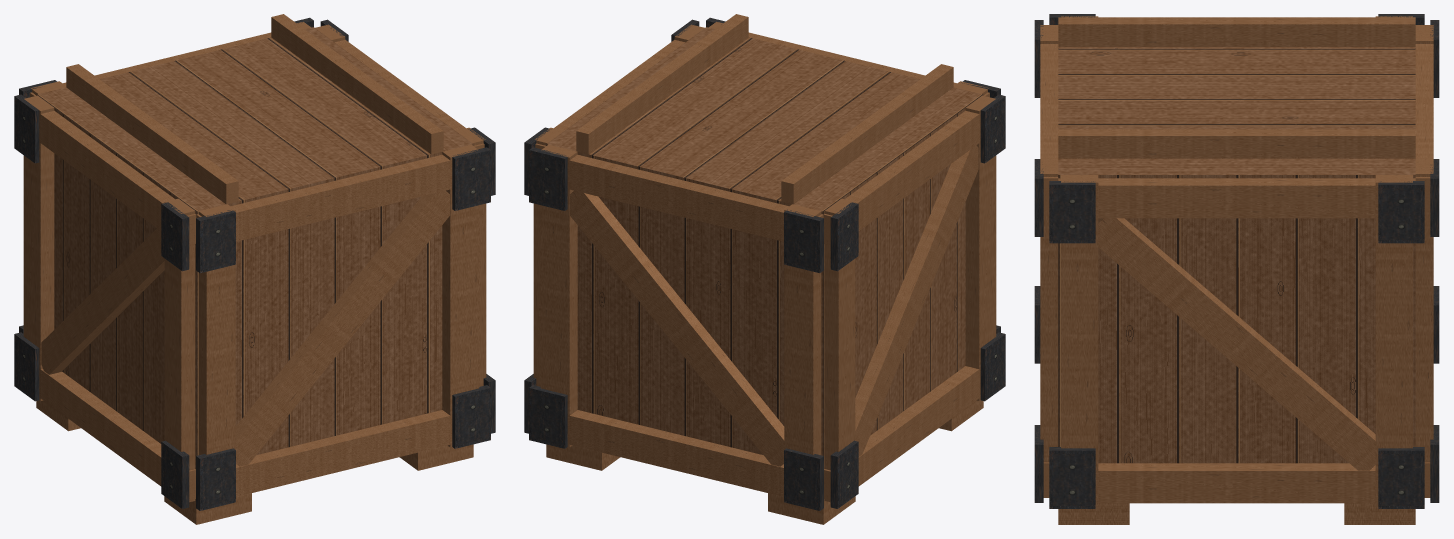
File: wooden_crate.glb
3 renders of one model, left to right at view 1: azimuth 30°, elevation 25°; view 2: azimuth 150°, elevation 25°; view 3: azimuth 270°, elevation 25°, orthographic. The views are drawn at different scales.
Parts seen in each view (by area): view 1: wooden_crate_ground_pivot_y_up; view 2: wooden_crate_ground_pivot_y_up; view 3: wooden_crate_ground_pivot_y_up.
Part boxes in pixels (x1,y1,x2,y2): wooden_crate_ground_pivot_y_up: (14, 14, 495, 524); wooden_crate_ground_pivot_y_up: (524, 14, 1005, 524); wooden_crate_ground_pivot_y_up: (1034, 14, 1439, 524).
Size of the model in its own units: 1.13 by 1.15 by 1.13.
Materials: 4 (4 with a texture image).
